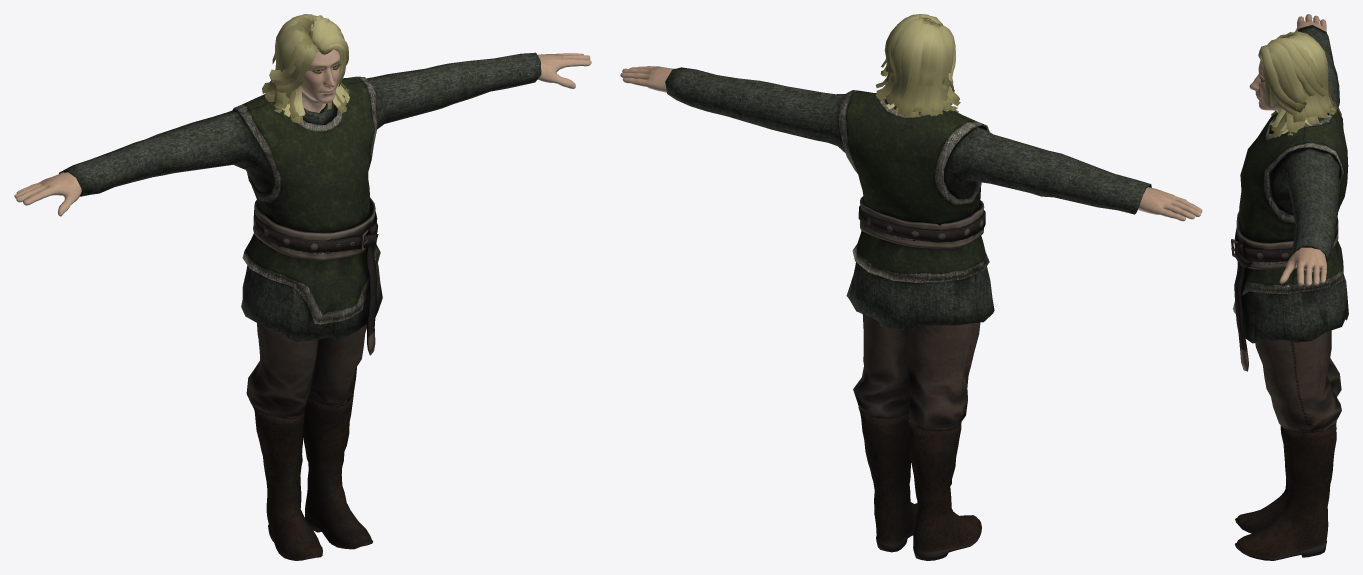
The model's file is legolas.obj.
3 renders of one model, left to right at view 1: azimuth 30°, elevation 25°; view 2: azimuth 150°, elevation 25°; view 3: azimuth 270°, elevation 25°, orthographic. The views are drawn at different scales.
Parts seen in each view (by area): view 1: Tops, Shoes, Bottoms, Hair, Body; view 2: Tops, Shoes, Bottoms, Hair, Body; view 3: Tops, Shoes, Bottoms, Hair, Body.
Boxes of the visible parts, <box> form: Tops: <box>59,52,541,355</box>; Shoes: <box>252,393,373,560</box>; Bottoms: <box>246,323,366,418</box>; Hair: <box>262,14,349,123</box>; Body: <box>14,49,591,216</box>; Tops: <box>665,67,1151,329</box>; Shoes: <box>858,407,981,560</box>; Bottoms: <box>853,314,980,430</box>; Hair: <box>875,14,960,117</box>; Body: <box>620,66,1202,221</box>; Tops: <box>1231,25,1348,371</box>; Shoes: <box>1235,421,1336,560</box>; Bottoms: <box>1255,330,1341,432</box>; Hair: <box>1258,31,1336,137</box>; Body: <box>1249,14,1326,285</box>.
Bounding box in the file's own units: 213 × 186 × 39.11.
5 materials, 5 textured.
